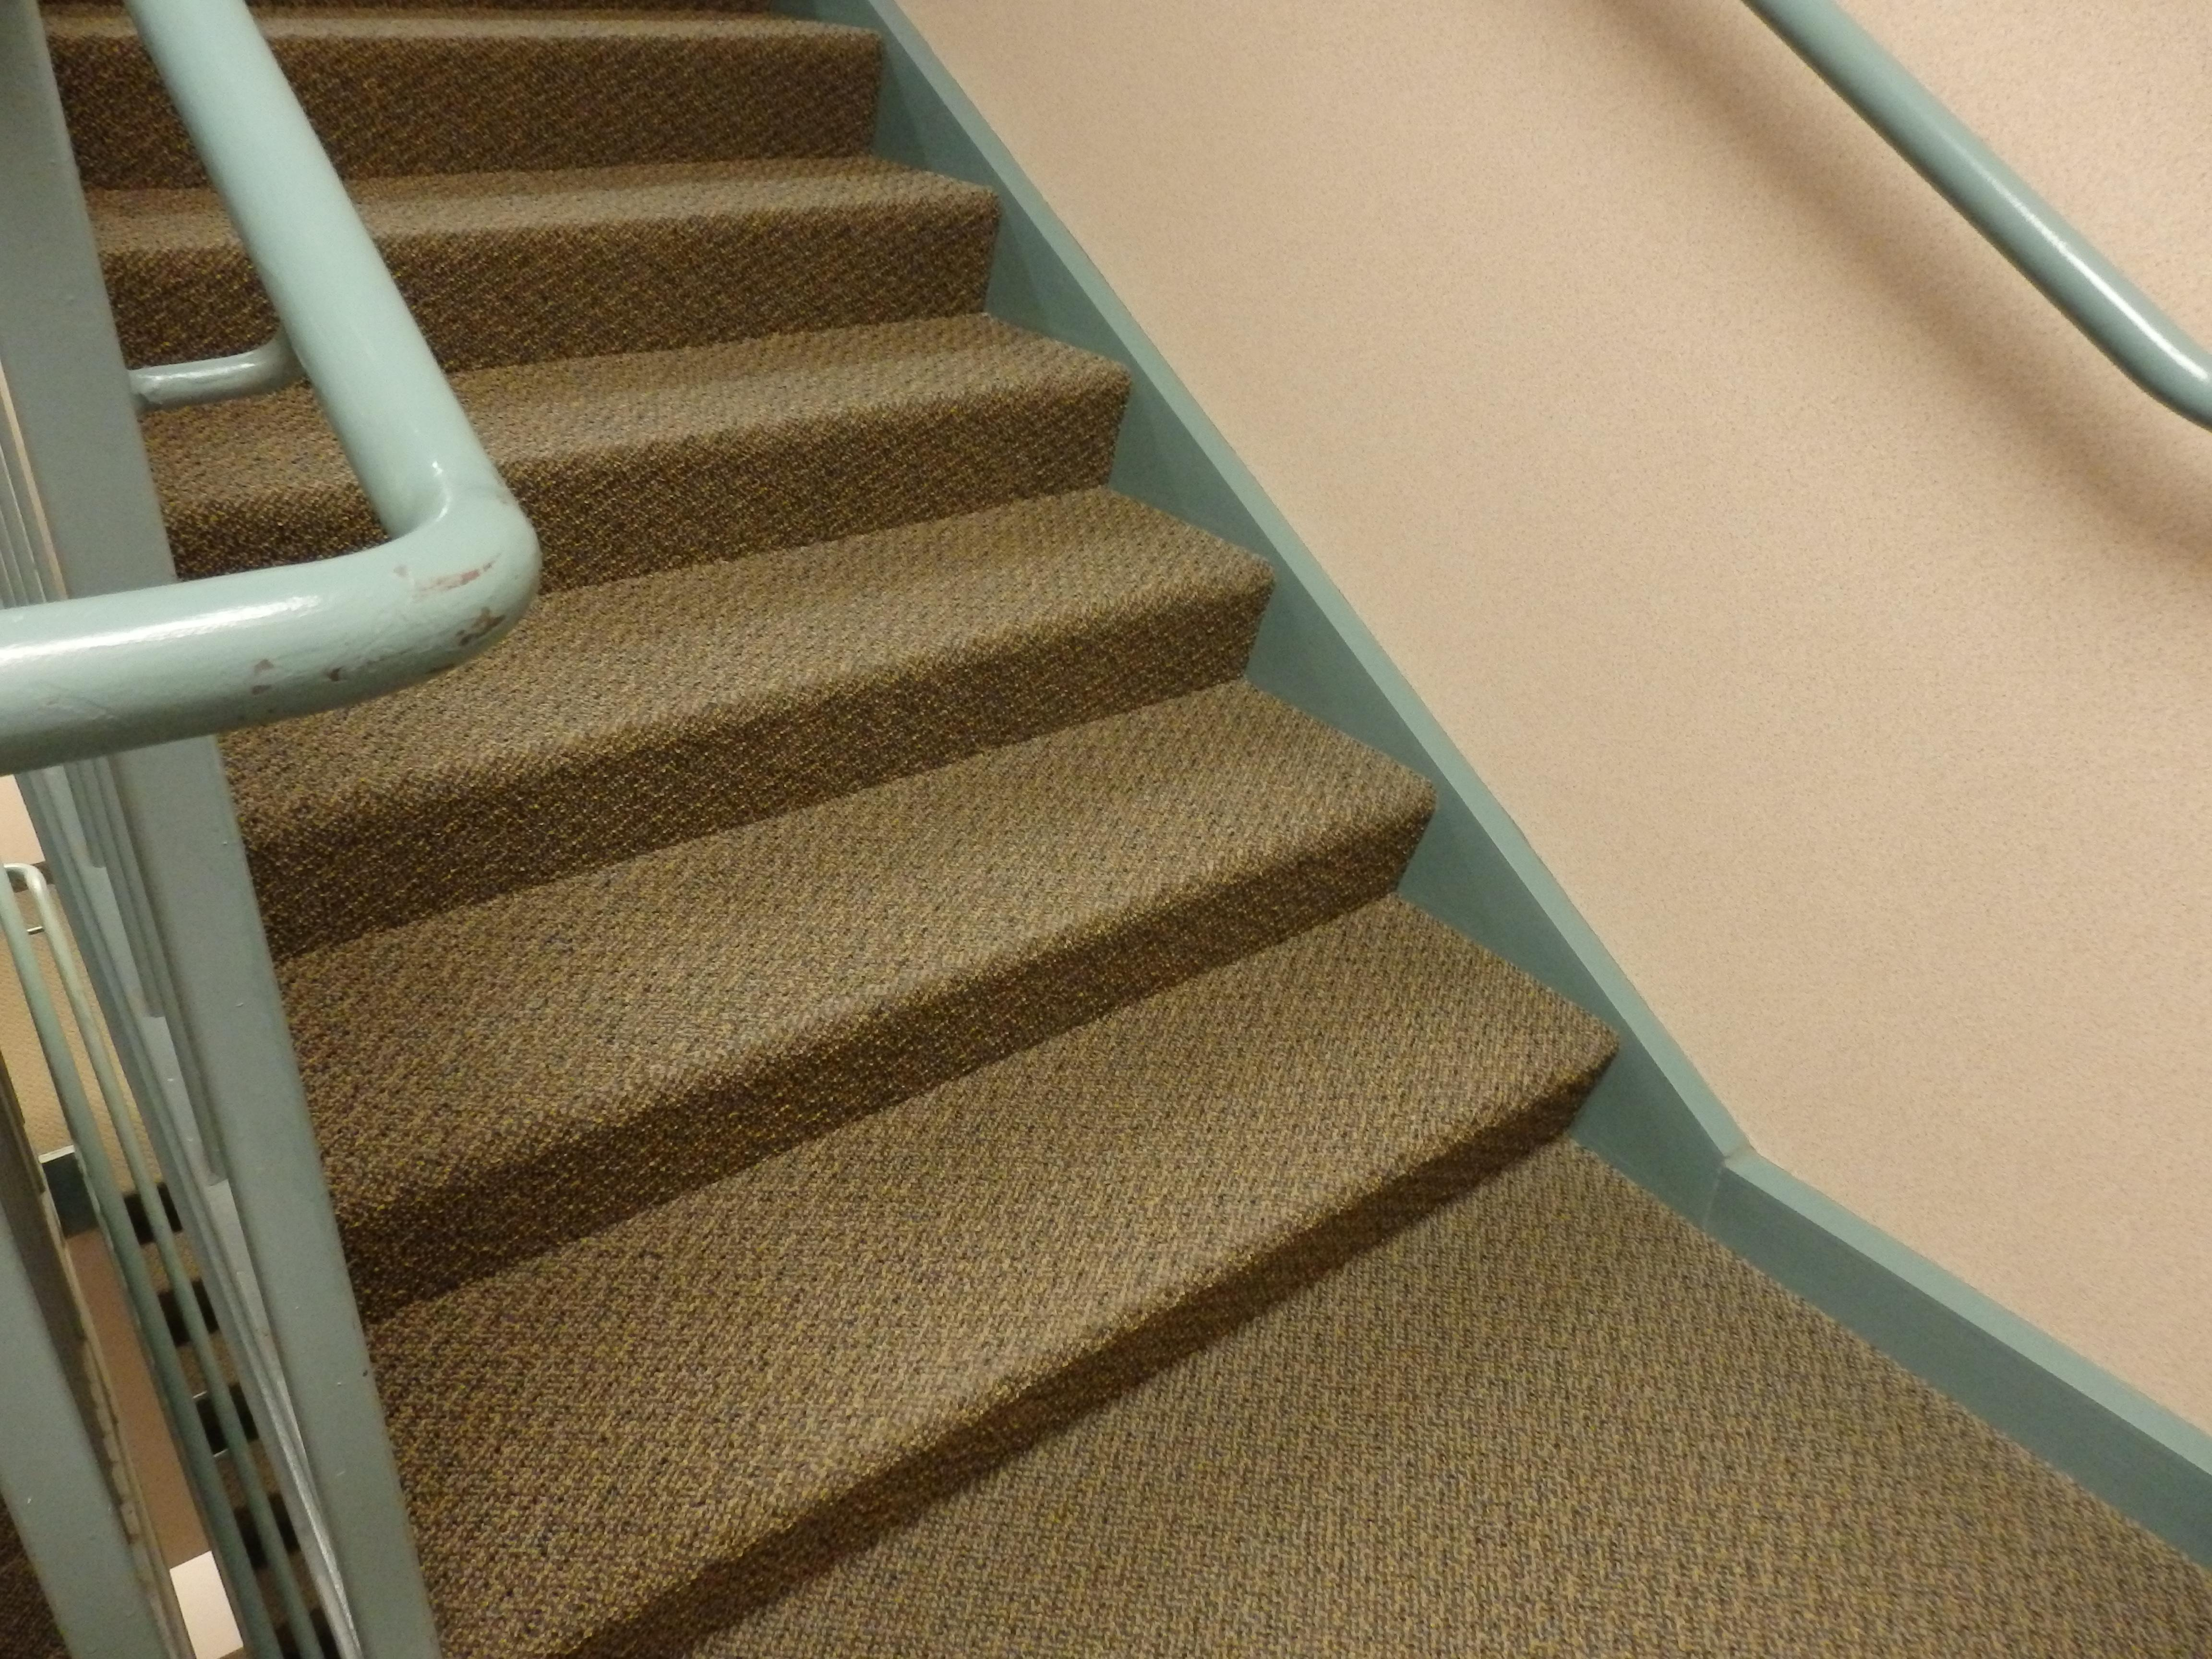stairs_up: (71, 75, 1632, 1558)
